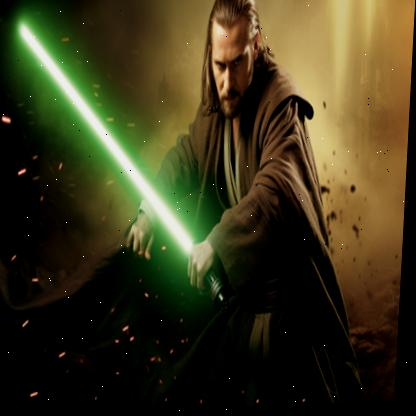lightsaber: (0, 10, 257, 327)
person: (0, 0, 416, 414)
